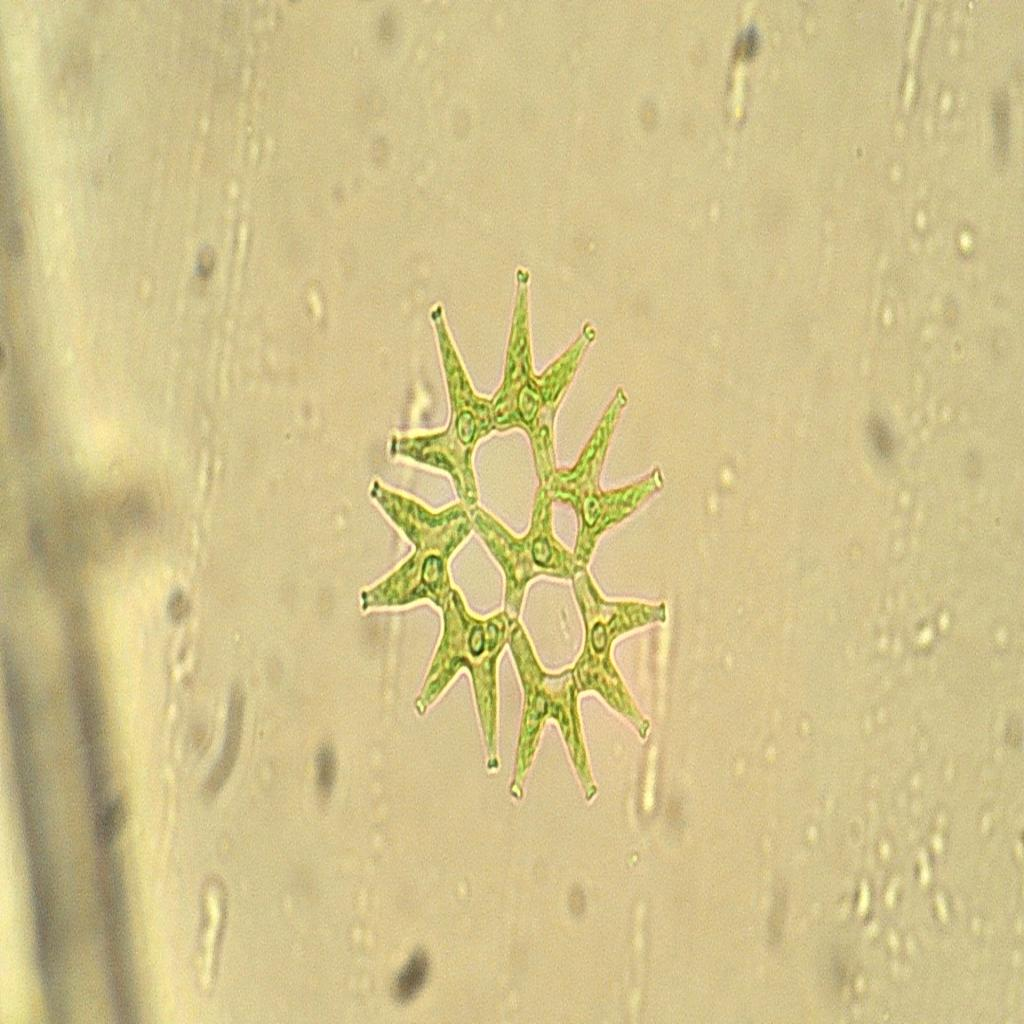Pediastrum_75T: (349, 256, 684, 819)
